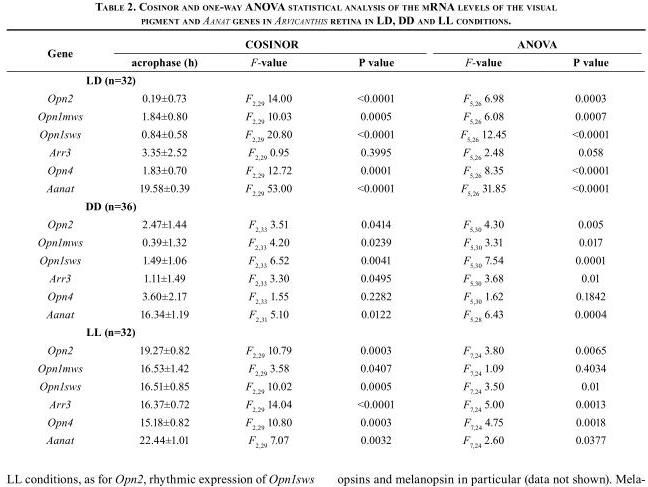table: (36, 37, 608, 448)
table column: (106, 37, 220, 448), (426, 37, 538, 448), (220, 37, 323, 448), (323, 37, 426, 448), (36, 37, 106, 448), (538, 37, 608, 448)
table column header: (36, 37, 608, 70)
table projected row header: (36, 70, 608, 88), (36, 197, 608, 214), (36, 323, 608, 340)
table row: (36, 88, 608, 107), (36, 214, 608, 233), (36, 340, 608, 359), (36, 52, 608, 70), (36, 70, 608, 88), (36, 107, 608, 125), (36, 125, 608, 143), (36, 143, 608, 161), (36, 161, 608, 179), (36, 179, 608, 197), (36, 233, 608, 251), (36, 251, 608, 269), (36, 269, 608, 287), (36, 287, 608, 305), (36, 305, 608, 323), (36, 359, 608, 377), (36, 377, 608, 395), (36, 395, 608, 413), (36, 413, 608, 431), (36, 197, 608, 214), (36, 323, 608, 340), (36, 431, 608, 448), (36, 37, 608, 52)
table spanning cell: (106, 37, 426, 52), (426, 37, 608, 52), (36, 37, 106, 70)
